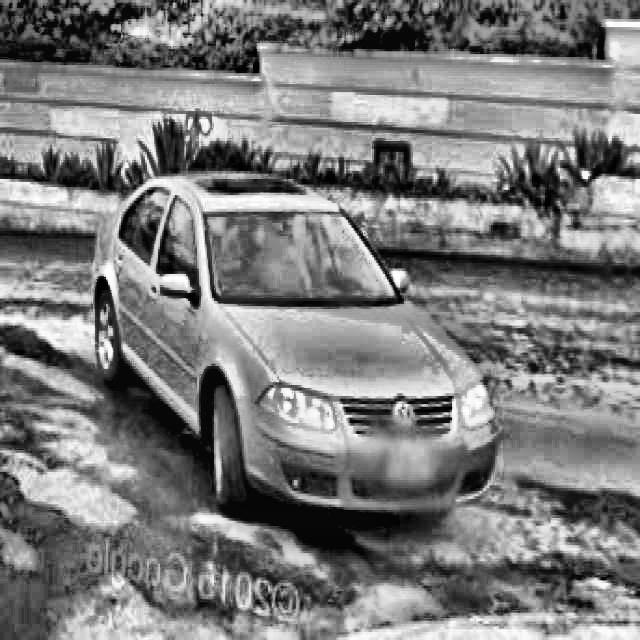carro: (89, 159, 499, 534)
